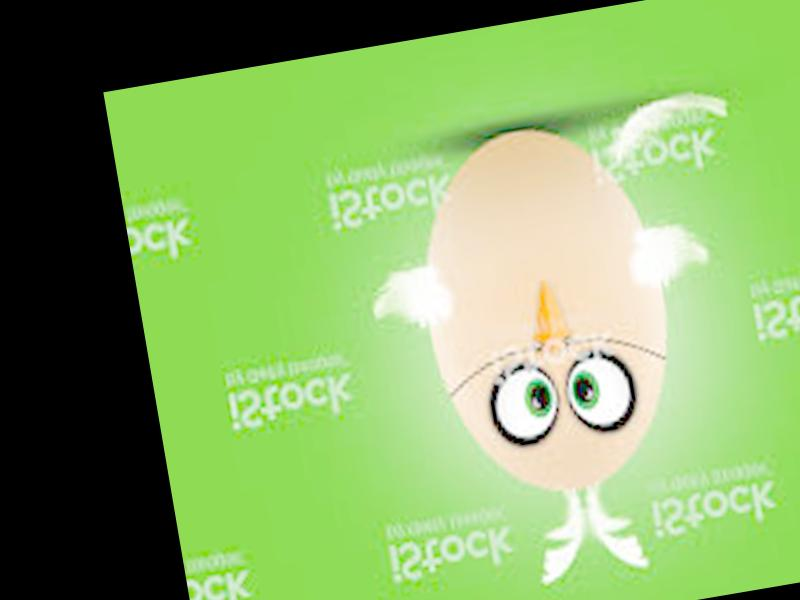Eggs: (402, 108, 693, 509)
